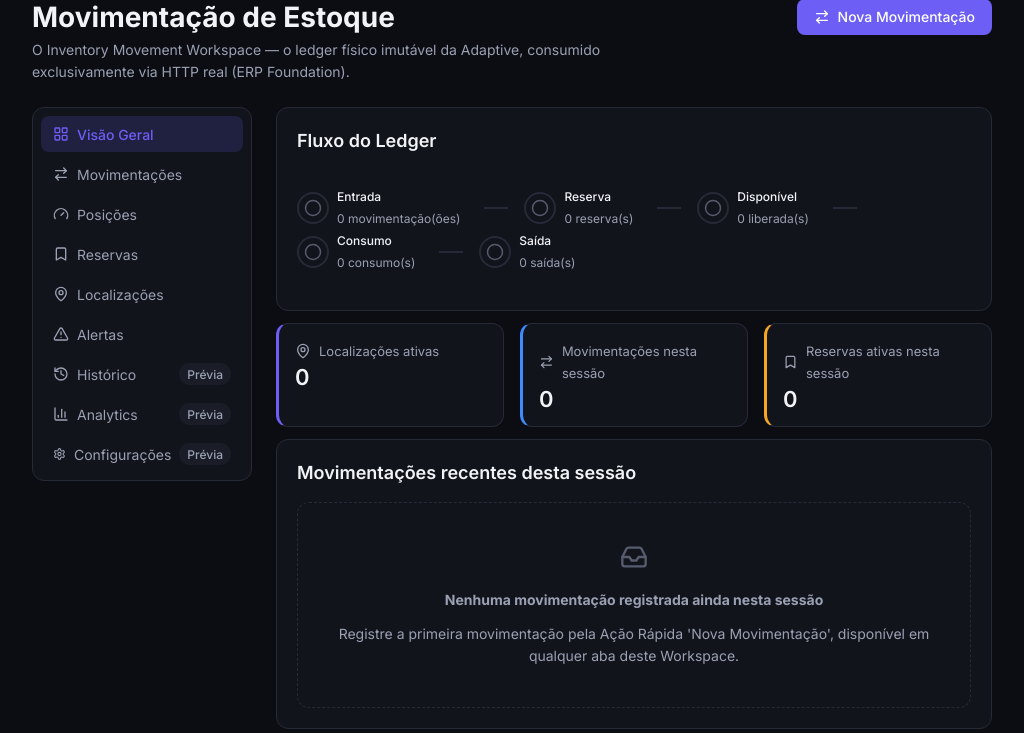
InventoryMovementPage — Inventory Movement Workspace por seções (IMP-405) › Alertas: cria e desativa uma Stock Alert Rule real, mostra o NotConnectedNotice honesto
Expected: the button "Visão Geral" is shown, x1=41 y1=116 x2=243 y2=152
Click the button "Alertas".
click(142, 334)  # box x1=41 y1=316 x2=243 y2=352
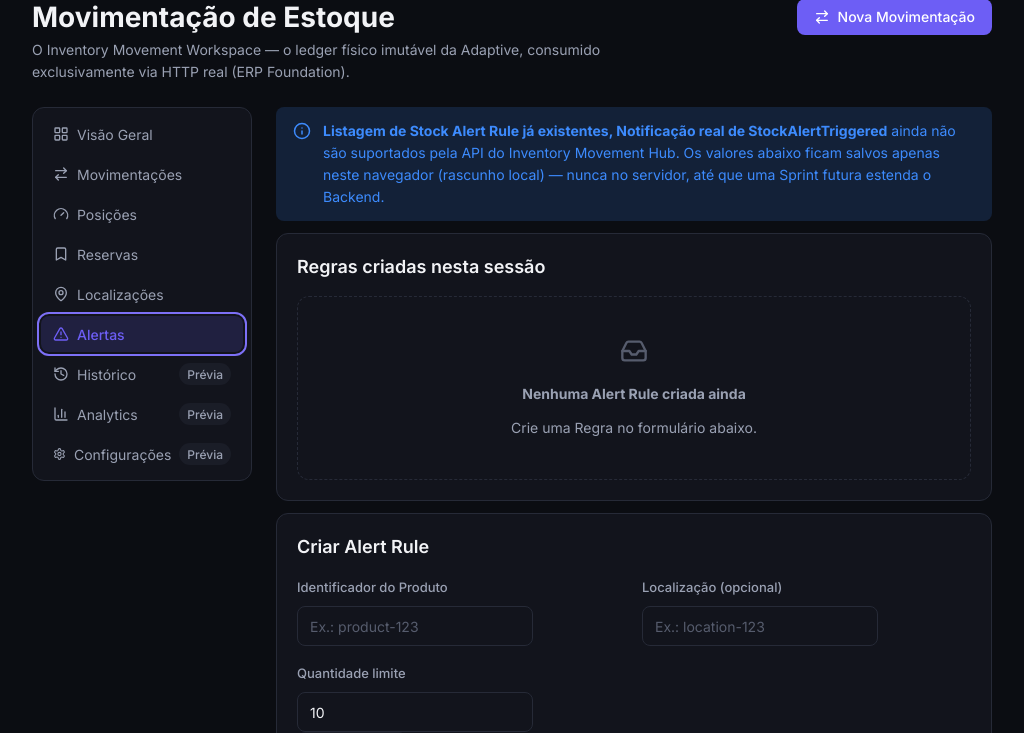
Expected: the text "Listagem de Stock Alert Rule já existentes" is shown, x1=323 y1=122 x2=887 y2=139
Type "product-1" into the field labelled "Identificador do Produto".
click(415, 626); type("product-1")  # box x1=297 y1=606 x2=533 y2=646
(page scrolled)
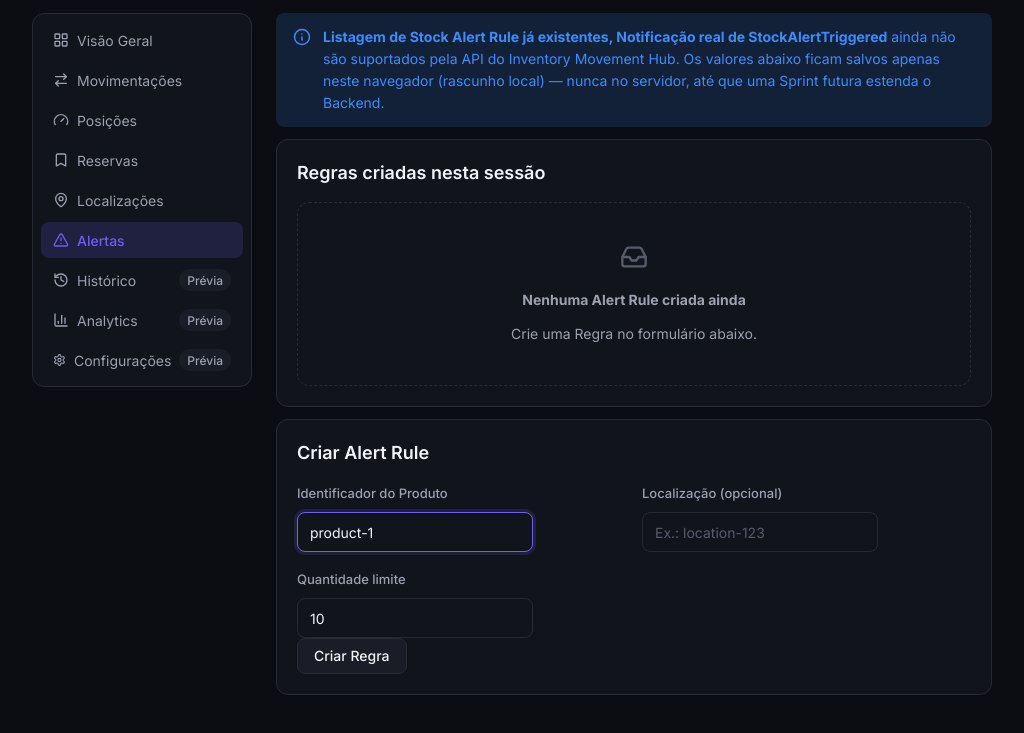
Click the button "Criar Regra".
click(352, 656)  # box x1=297 y1=638 x2=406 y2=674
(page scrolled)
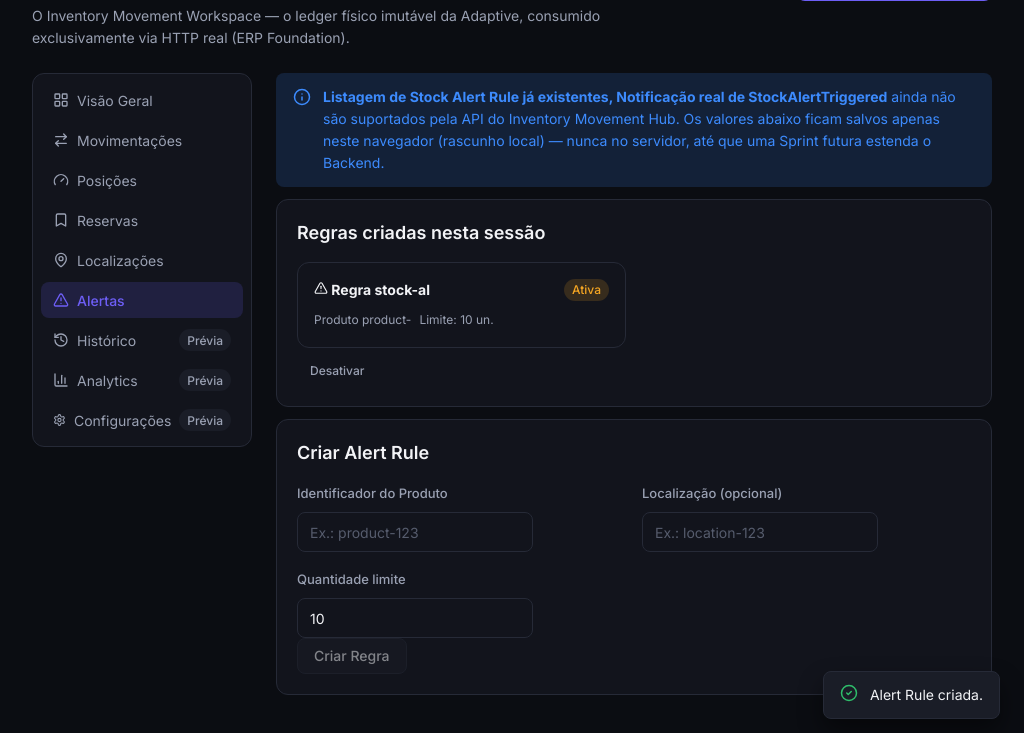
Expected: the text "Ativa" is shown, x1=564 y1=279 x2=609 y2=301
Click the button "Desativar".
click(337, 371)  # box x1=297 y1=356 x2=377 y2=386
(page scrolled)
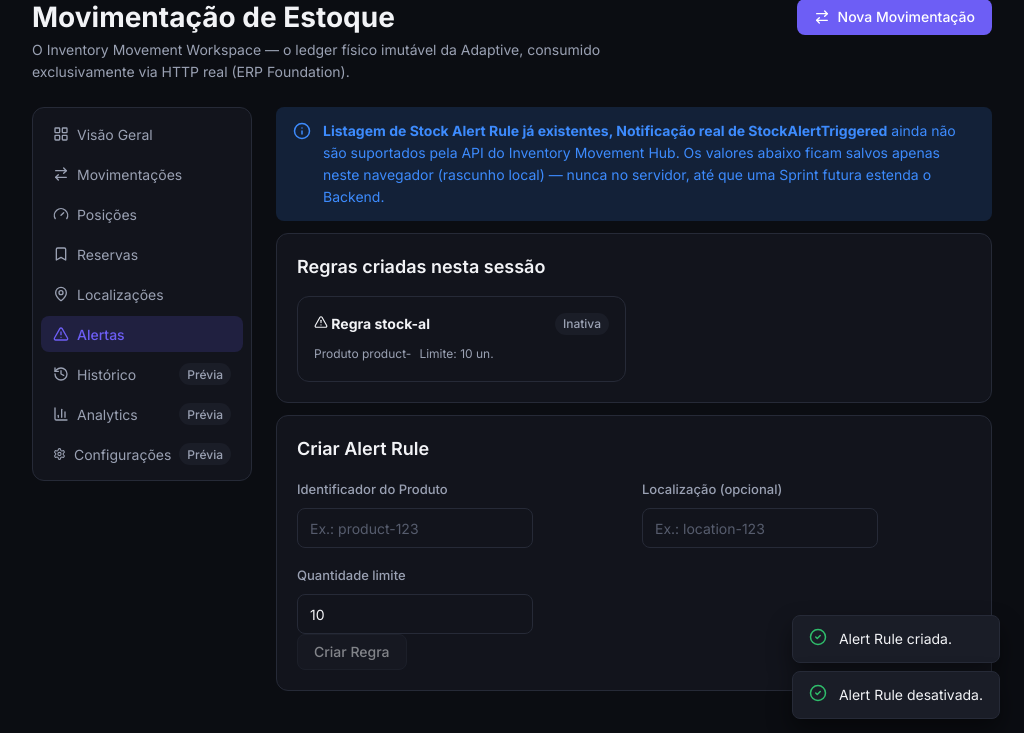
Expected: the text "Inativa" is shown, x1=555 y1=313 x2=609 y2=335
